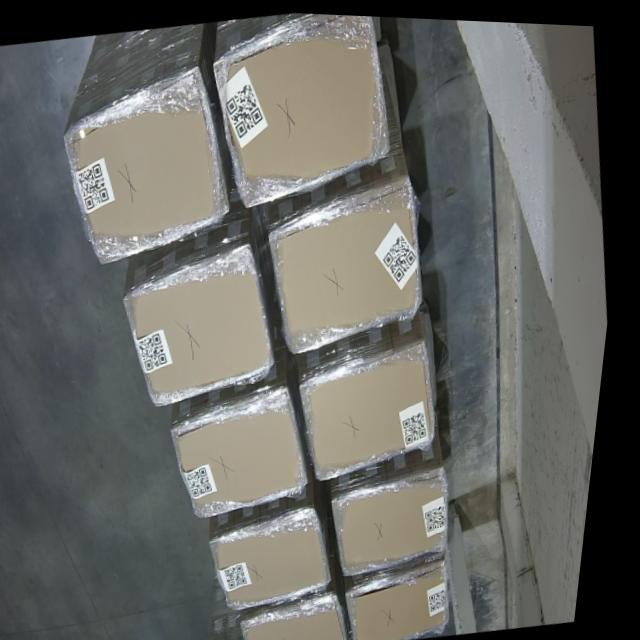pallet: (213, 12, 394, 209), (64, 63, 225, 260), (129, 241, 282, 408), (278, 177, 425, 349), (180, 381, 318, 519), (311, 342, 444, 478), (222, 507, 344, 610), (345, 463, 460, 572), (363, 557, 466, 640), (255, 593, 362, 640)
